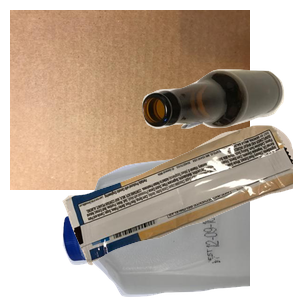cardboard: (10, 10, 250, 190)
glass: (140, 67, 300, 188)
plastic: (60, 135, 300, 300)
trash: (60, 123, 300, 300)
